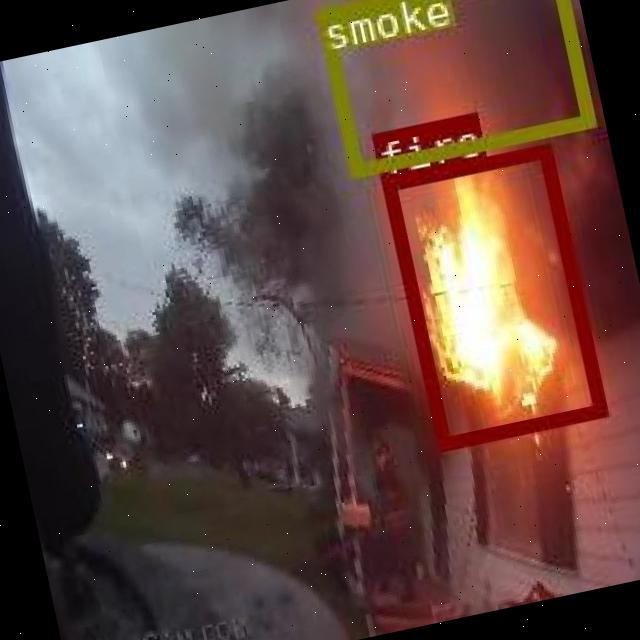fire: (380, 142, 604, 448)
smoke: (314, 0, 592, 175)
